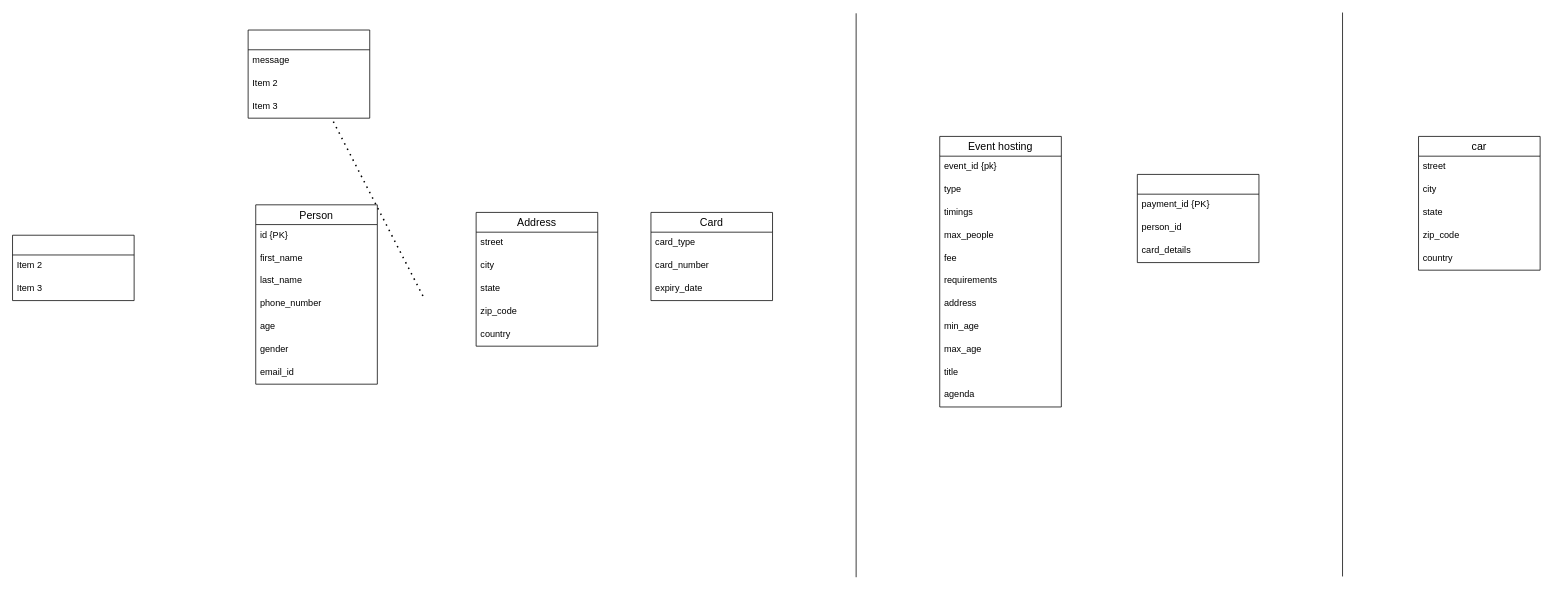
This 1553x590 diagram has some shape labels left out. Each missing label, with the box of its shape:
Friend List: (12, 234, 134, 301)
People_Payment: (1137, 174, 1259, 263)
